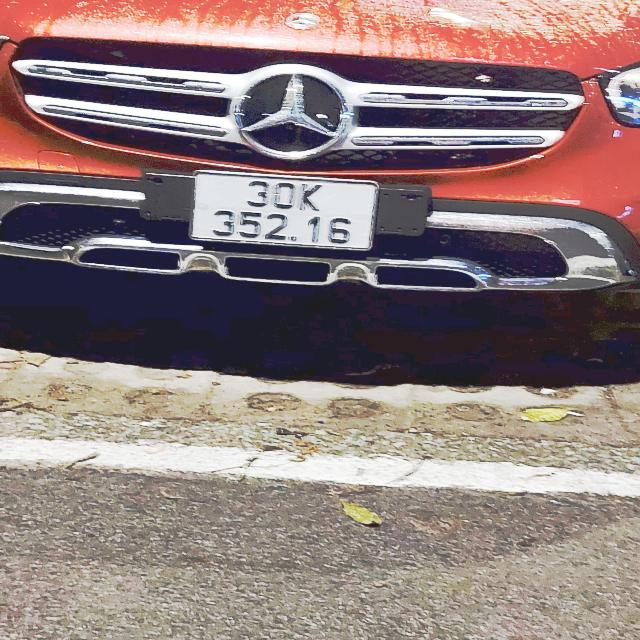license_plate: (179, 167, 395, 260)
